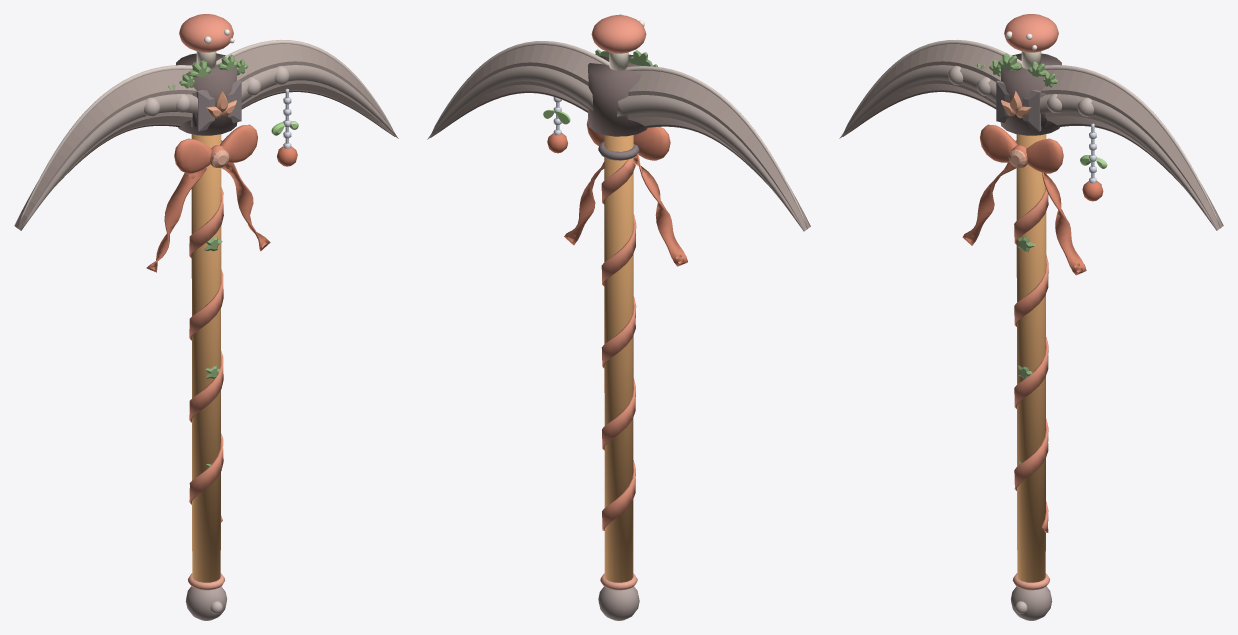
Rendered from BogIronPickaxe.glb.
3 views of the same model, side by side, from view 1: azimuth 30°, elevation 25°; view 2: azimuth 150°, elevation 25°; view 3: azimuth 330°, elevation 25° (orthographic).
Parts seen in each view (by area): view 1: BogIronPickaxe_SmoothPlastic, BogIronPickaxe_Metal; view 2: BogIronPickaxe_SmoothPlastic, BogIronPickaxe_Metal; view 3: BogIronPickaxe_SmoothPlastic, BogIronPickaxe_Metal.
Part boxes in pixels (x1,y1,x2,y2): BogIronPickaxe_SmoothPlastic: (14, 14, 398, 620); BogIronPickaxe_Metal: (188, 88, 291, 590); BogIronPickaxe_SmoothPlastic: (427, 14, 810, 620); BogIronPickaxe_Metal: (553, 97, 637, 590); BogIronPickaxe_SmoothPlastic: (839, 14, 1223, 620); BogIronPickaxe_Metal: (1001, 91, 1096, 590).
Bounding box in the file's own units: 2.93 × 4.44 × 0.4464.
Materials: 3 (3 with a texture image).
